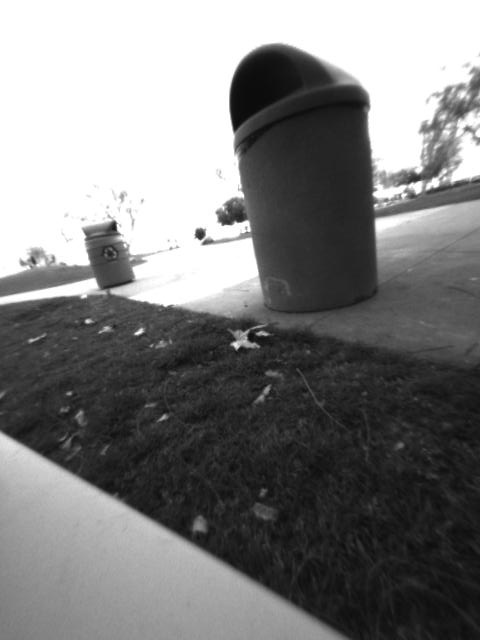trashcan: (223, 39, 390, 318)
